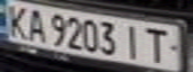0: (78, 17, 100, 54)
2: (63, 15, 84, 51)
3: (96, 19, 121, 56)
9: (45, 11, 69, 47)
A: (21, 7, 48, 43)
I: (118, 21, 148, 61)
K: (0, 2, 33, 38)
T: (139, 25, 178, 65)
